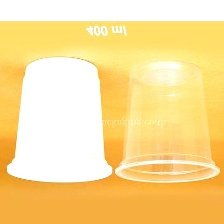glass: (3, 52, 115, 186), (115, 55, 222, 188)
